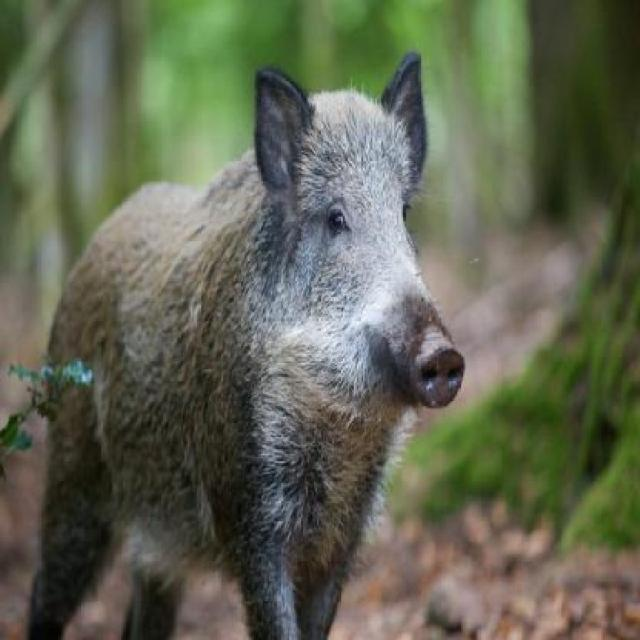wildboar: (21, 47, 470, 640)
